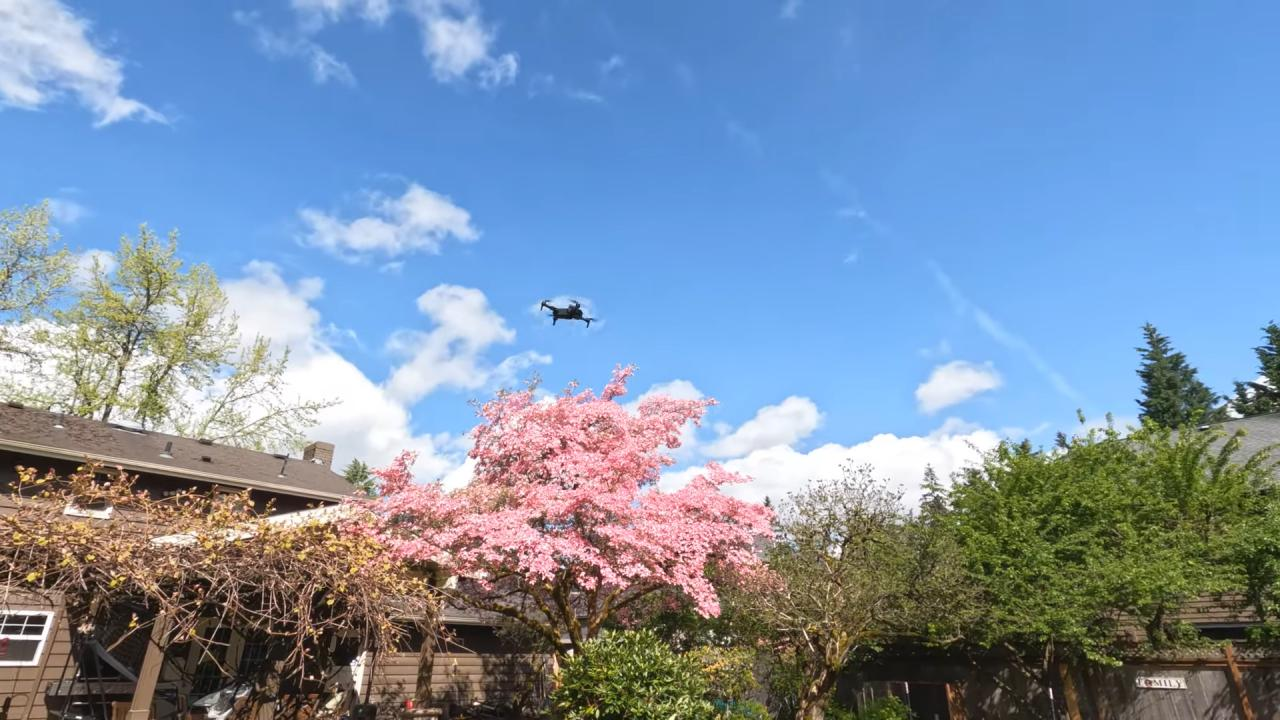Drone: (532, 292, 604, 330)
